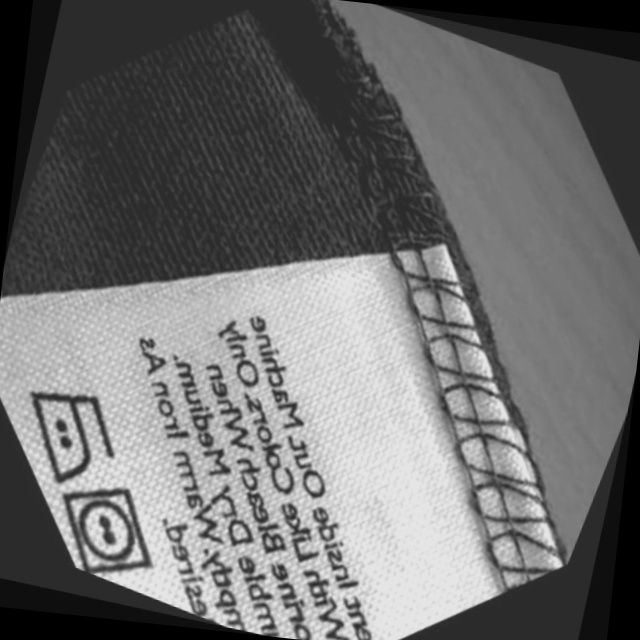iron_medium: (0, 366, 136, 500)
tumble_dry_medium: (33, 464, 178, 595)
